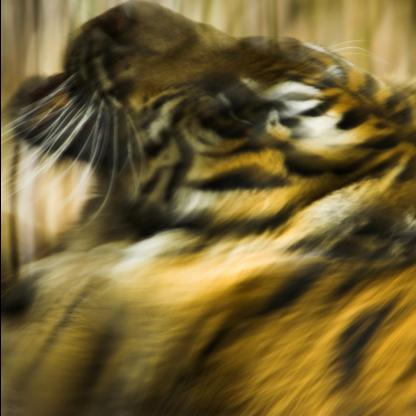tiger: (13, 3, 415, 272)
